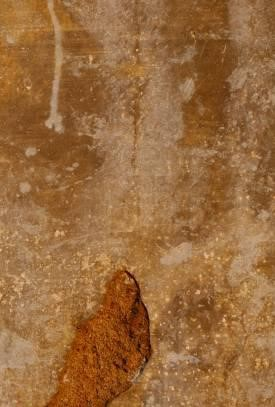Corrosion: (41, 267, 154, 407)
